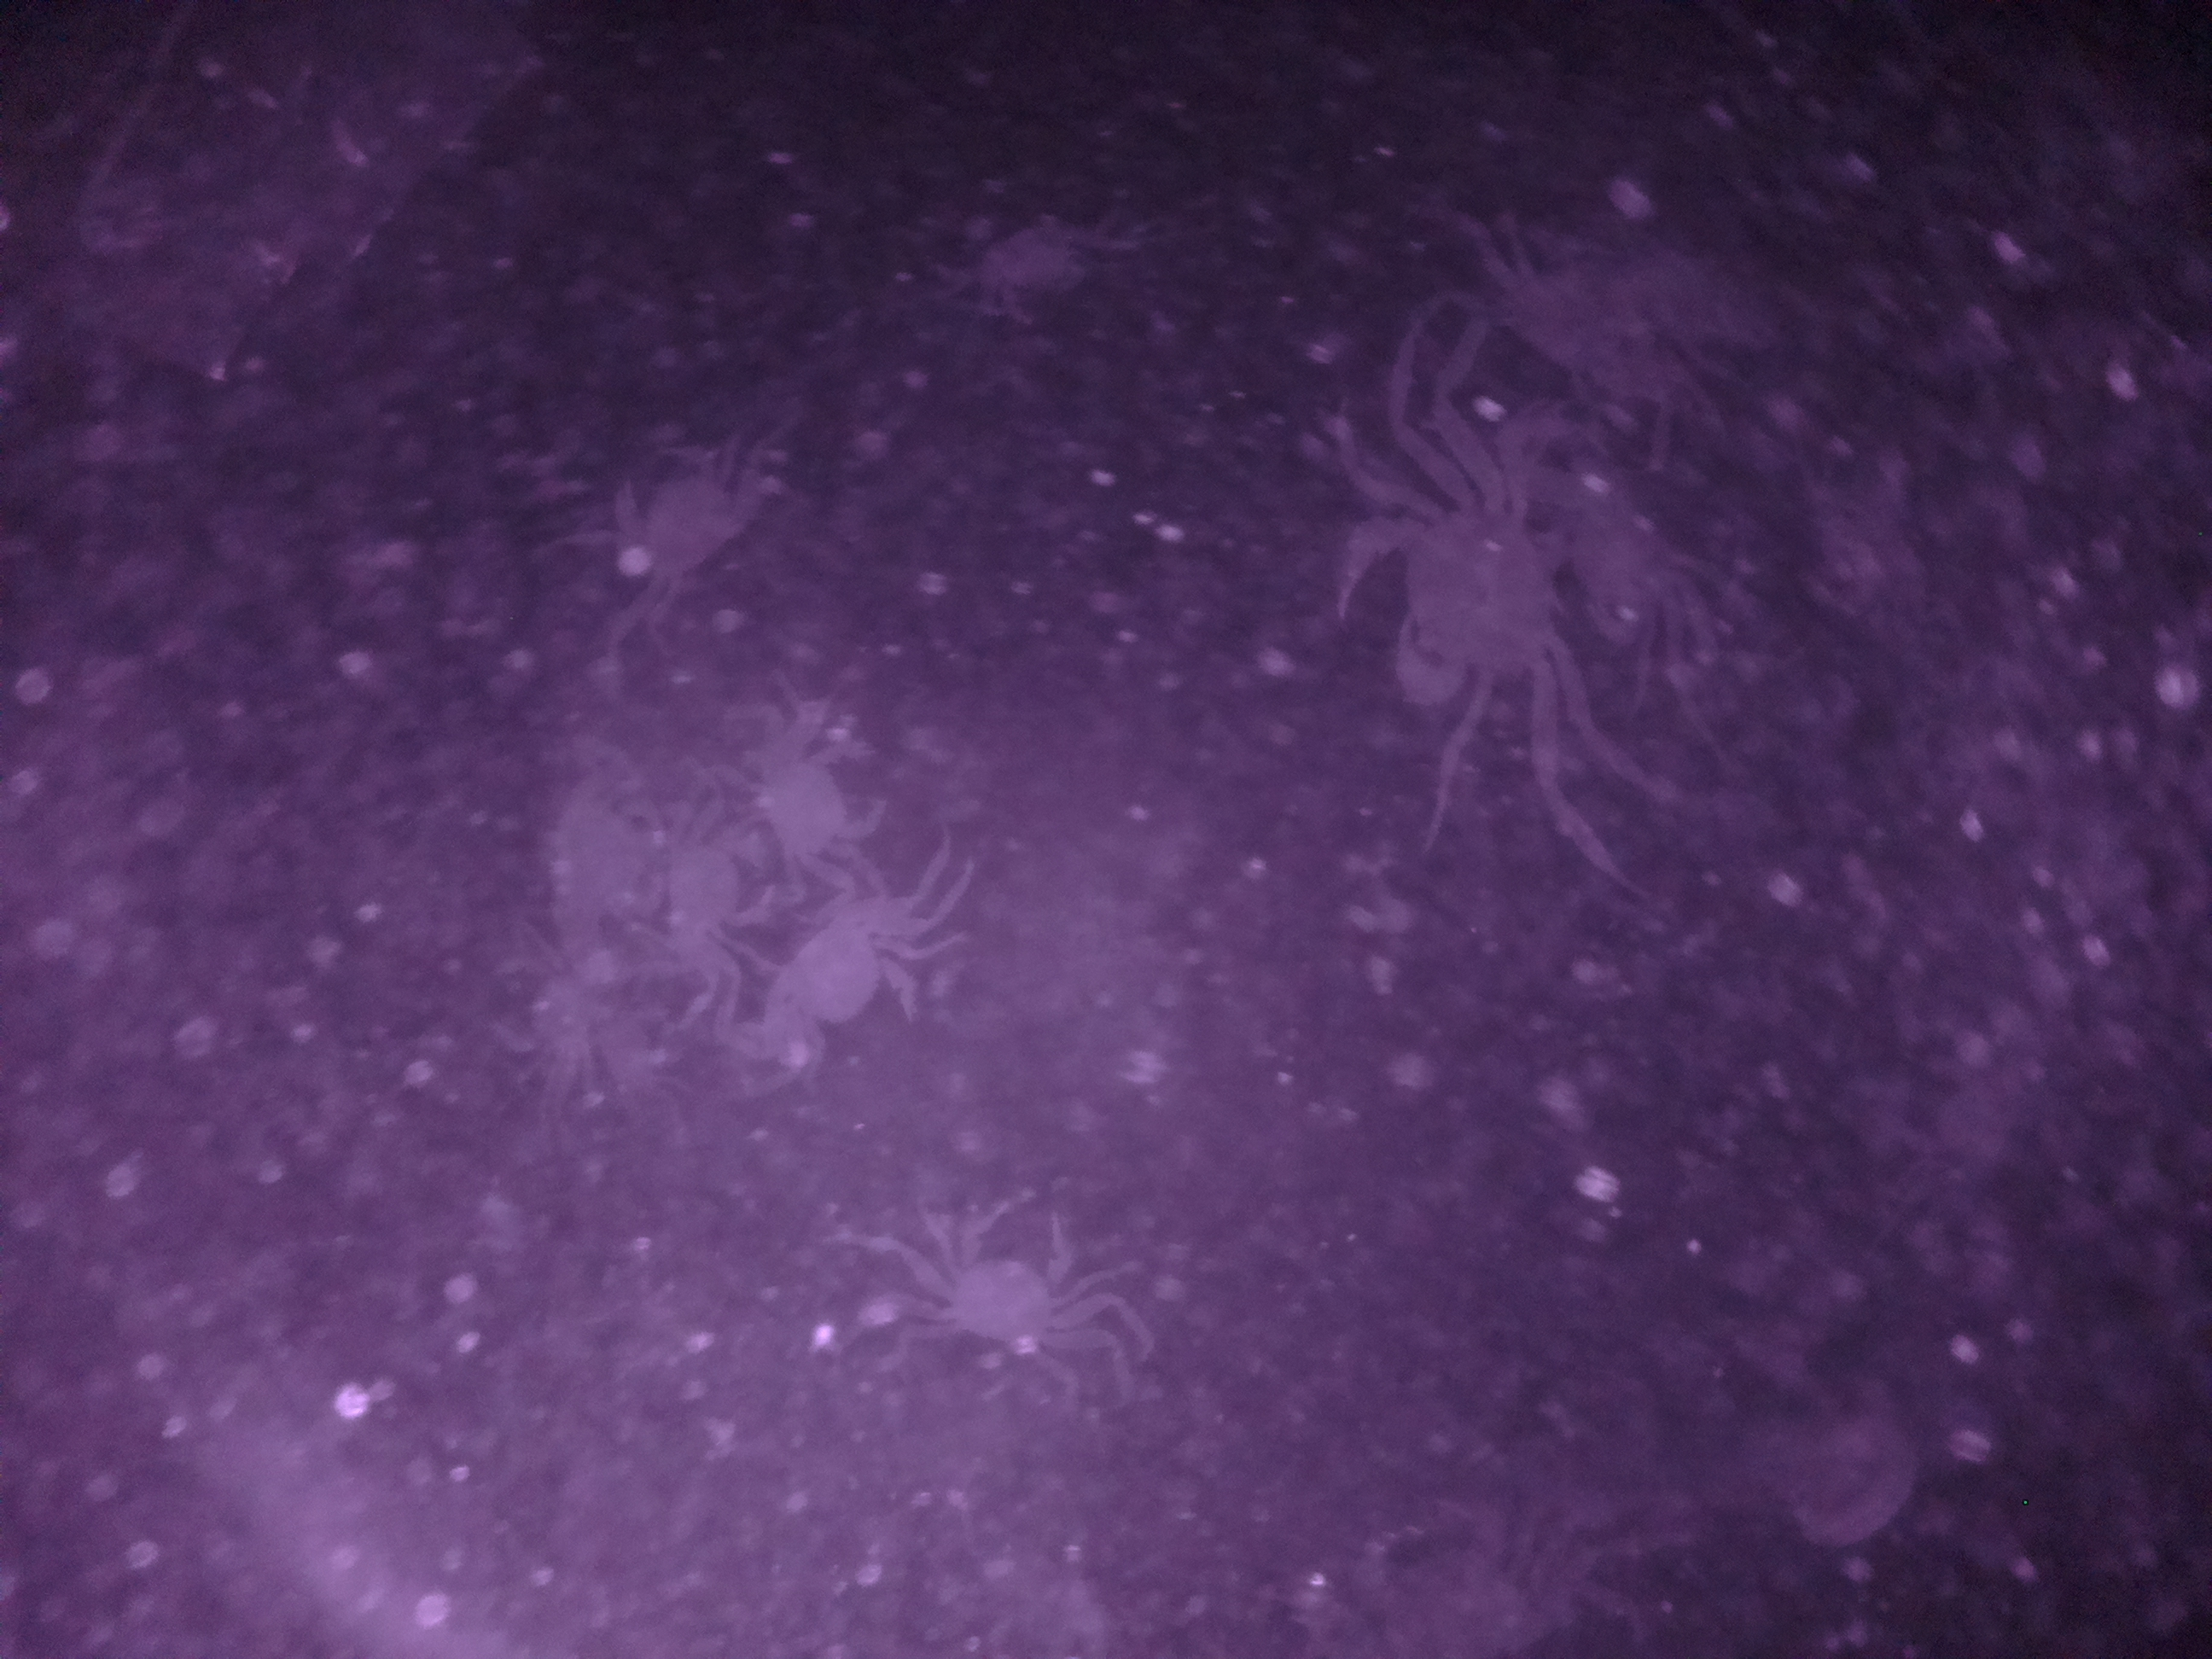Crab: (1317, 448, 1604, 762), (920, 1164, 1109, 1378), (752, 882, 939, 1098), (728, 711, 916, 889)
